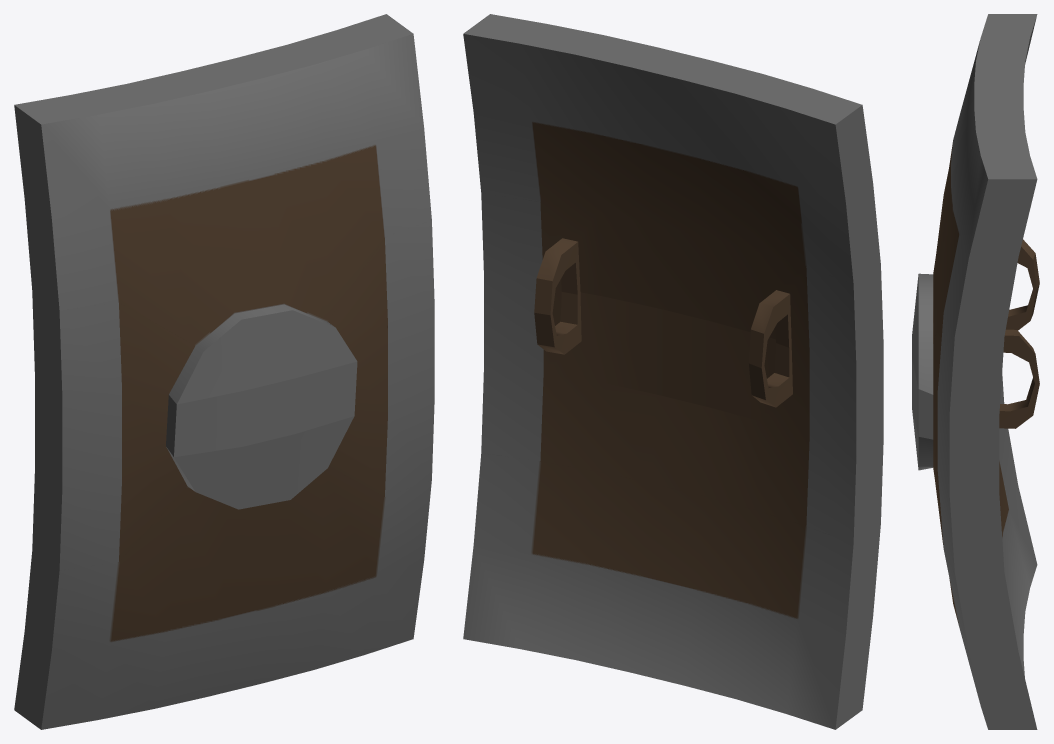
File: shield_big.fbx
3 renders of one model, left to right at view 1: azimuth 30°, elevation 25°; view 2: azimuth 150°, elevation 25°; view 3: azimuth 270°, elevation 25°, orthographic. The views are drawn at different scales.
Visible parts, largest first — view 1: Cube; view 2: Cube; view 3: Cube.
Part boxes in pixels (box(x1,y1,x2,y2)): Cube: box(14, 14, 434, 729); Cube: box(463, 14, 883, 729); Cube: box(912, 14, 1039, 729).
Size of the model in its own units: 200 by 311 by 65.36.
